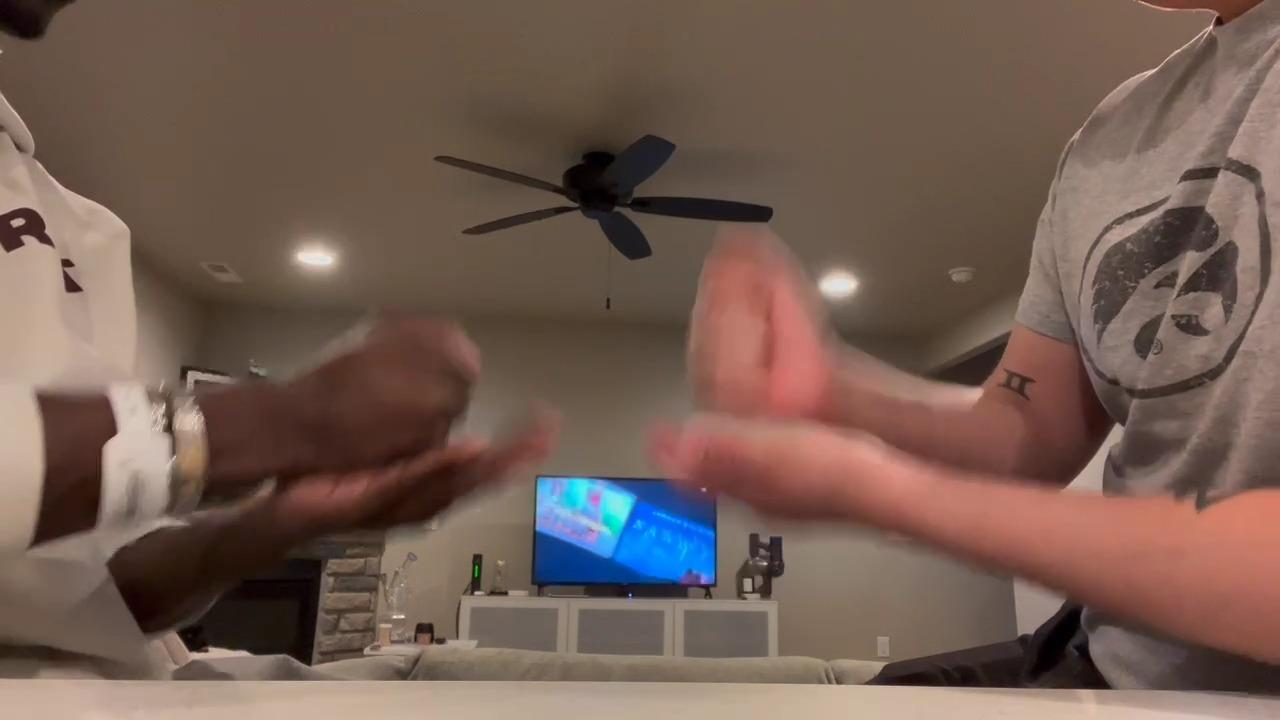Rock: (683, 223, 833, 429), (314, 308, 484, 476)
